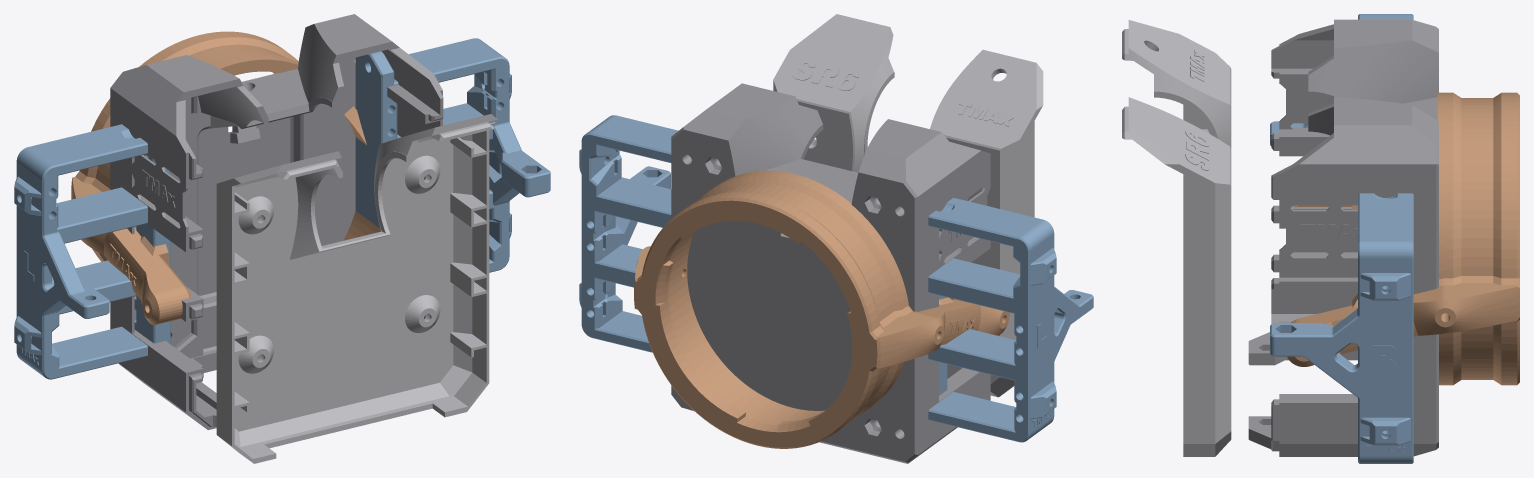
The model's file is shell.glb.
3 renders of one model, left to right at view 1: azimuth 30°, elevation 25°; view 2: azimuth 150°, elevation 25°; view 3: azimuth 270°, elevation 25°, orthographic. The views are drawn at different scales.
Parts seen in each view (by area): view 1: Lid, Base, LFrame, RFrame, Receiver; view 2: Base, Receiver, Lid, LFrame, RFrame; view 3: Base, Lid, Receiver, RFrame, LFrame.
Part boxes in pixels (left/top/right/bottom): Lid: left=216, top=114, right=498, bottom=463; Base: left=110, top=14, right=443, bottom=429; LFrame: left=14, top=124, right=170, bottom=379; RFrame: left=355, top=38, right=550, bottom=272; Receiver: left=71, top=31, right=380, bottom=325; Base: left=671, top=83, right=990, bottom=463; Receiver: left=634, top=170, right=1009, bottom=448; Lid: left=773, top=14, right=1043, bottom=397; LFrame: left=928, top=197, right=1093, bottom=442; RFrame: left=579, top=115, right=678, bottom=352; Base: left=1248, top=19, right=1438, bottom=456; Lid: left=1122, top=20, right=1231, bottom=456; Receiver: left=1287, top=92, right=1519, bottom=385; RFrame: left=1270, top=193, right=1413, bottom=463; LFrame: left=1270, top=14, right=1413, bottom=145.
Size of the model in its own units: 220 by 137 by 150.
